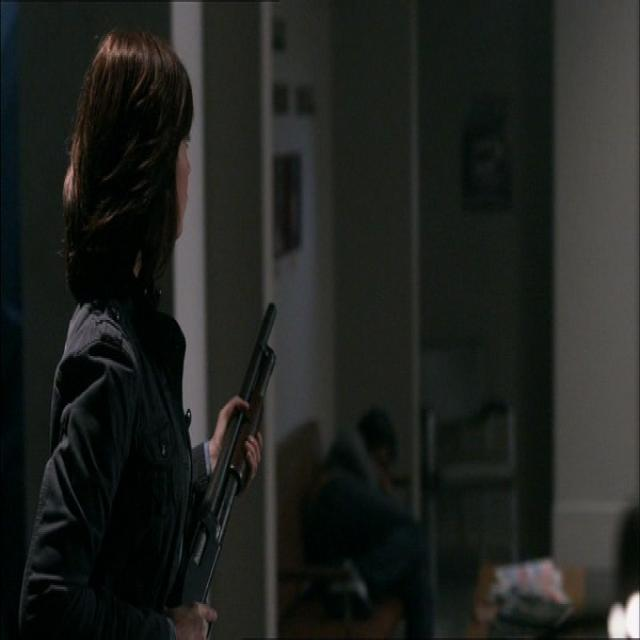rifle: (169, 293, 284, 616)
